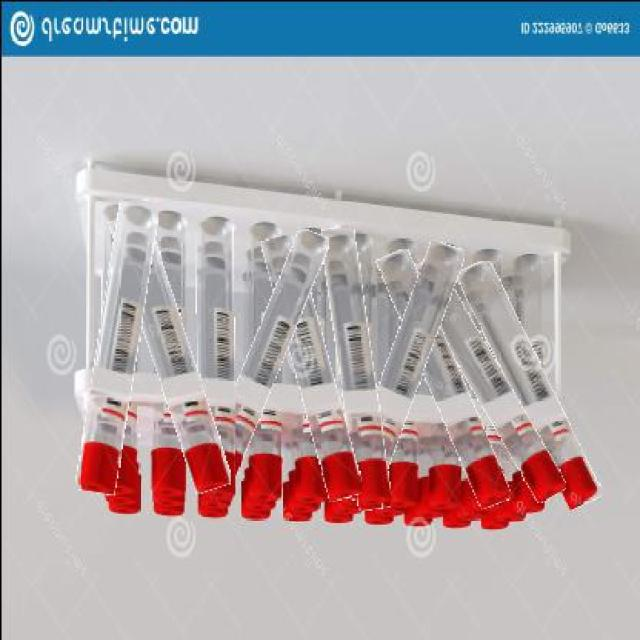Experimental-tube: (435, 248, 534, 506), (481, 254, 574, 511), (128, 208, 209, 492), (400, 243, 486, 509), (222, 223, 304, 497), (361, 237, 442, 506), (85, 195, 148, 493), (276, 232, 344, 499), (329, 225, 382, 508), (196, 218, 235, 498)
